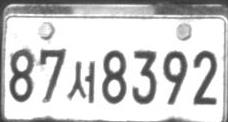2: (193, 50, 217, 105)
3: (132, 50, 156, 105)
7: (39, 49, 65, 102)
8: (100, 49, 126, 104), (9, 48, 34, 103)
9: (162, 50, 187, 105)
서: (67, 61, 95, 102)
